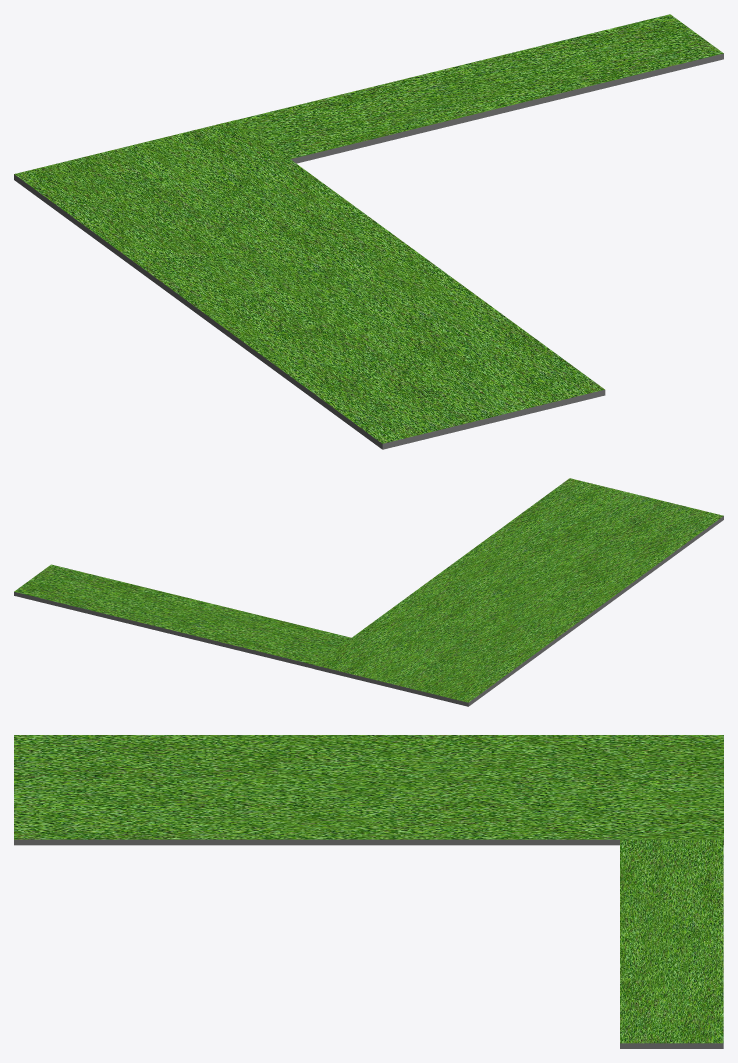
Rendered from pasto.obj.
The picture shows the model from 3 angles, top to bottom: view 1: azimuth 30°, elevation 25°; view 2: azimuth 150°, elevation 25°; view 3: azimuth 270°, elevation 25°; orthographic projection. The views are drawn at different scales.
Parts seen in each view (by area): view 1: pasto:pCube1, pasto1:pCube1 group9; view 2: pasto:pCube1, pasto1:pCube1 group9; view 3: pasto:pCube1, pasto1:pCube1 group9.
Part boxes in pixels (x1,y1,x2,y2): pasto:pCube1: (14,120,605,449); pasto1:pCube1 group9: (237,14,723,163); pasto:pCube1: (314,478,723,706); pasto1:pCube1 group9: (14,564,351,668); pasto:pCube1: (14,735,723,845); pasto1:pCube1 group9: (620,839,723,1048).
Bounding box in the file's own units: 25.35 × 0.2167 × 24.67.
